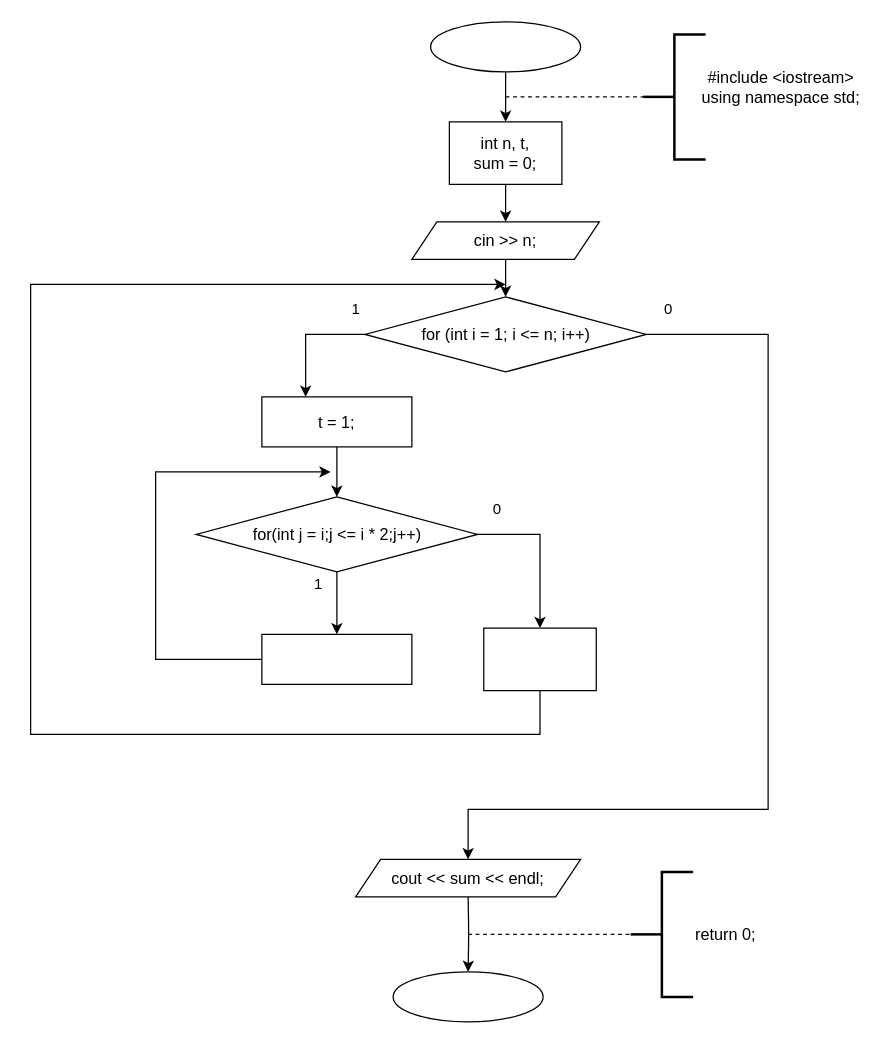
Some shapes in this 890 by 1044 pixel diagram are drawn without their labels. Here are the shapes that lost their labels. From the top down, the centre of each, then its label:
At (x=505, y=46): "начало".
At (x=336, y=658): "t *= j;".
At (x=539, y=659): "sum += t;".
At (x=467, y=996): "конец".
